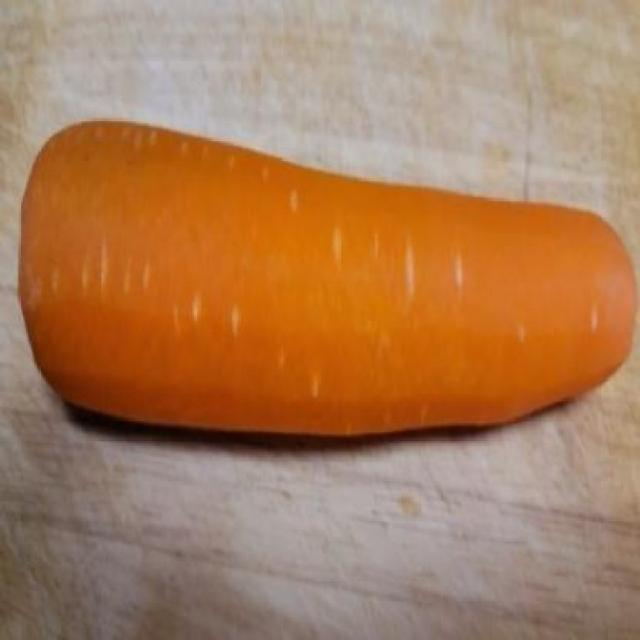carrot: (12, 105, 638, 450)
